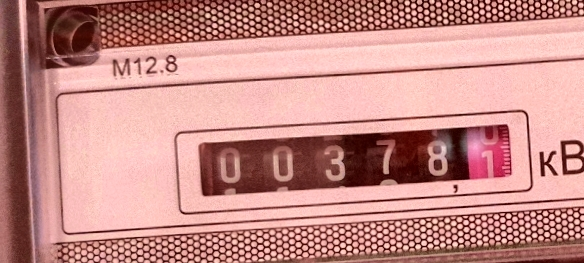0: (216, 143, 244, 184), (269, 142, 295, 182), (477, 123, 500, 145)
1: (477, 146, 497, 178)
3: (320, 141, 347, 183)
7: (373, 136, 397, 175)
8: (424, 136, 449, 177)
screen: (177, 105, 531, 206)
